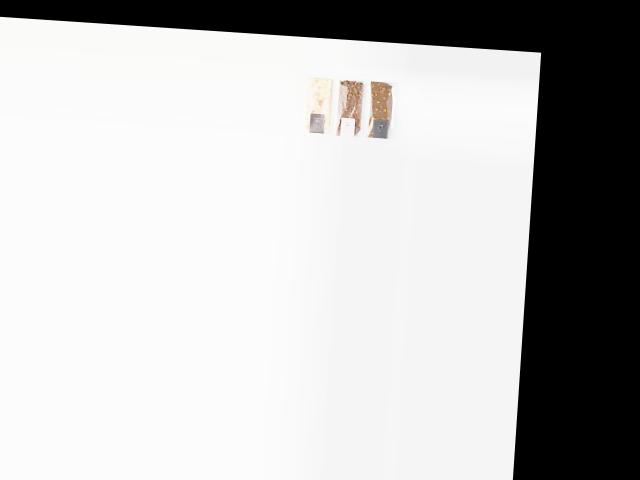chocolate: (368, 78, 398, 139)
